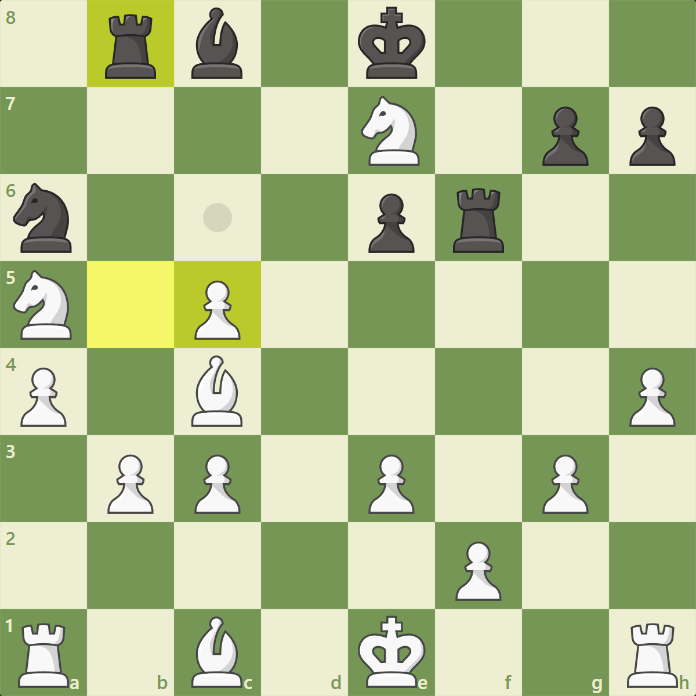B: (189, 615, 246, 690), (191, 353, 245, 429)
K: (356, 613, 428, 692)
N: (11, 268, 76, 342), (359, 93, 422, 169)
P: (190, 279, 243, 344), (629, 365, 677, 429), (541, 450, 589, 514), (453, 538, 501, 602), (367, 451, 415, 515), (192, 451, 240, 515), (104, 451, 152, 515), (18, 364, 66, 428)
R: (16, 620, 71, 690), (625, 622, 681, 690)
b: (189, 4, 245, 83)
k: (356, 3, 429, 82)
n: (11, 182, 76, 256)
p: (367, 192, 416, 256), (541, 104, 590, 168), (627, 105, 676, 169)
r: (101, 12, 160, 83), (449, 185, 507, 256)
